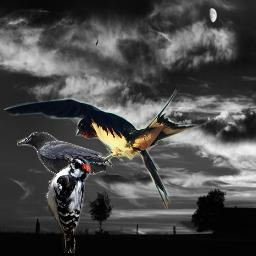Crow: (17, 132, 106, 192)
Swallow: (0, 88, 232, 209)
Woodpecker: (45, 154, 92, 253)
